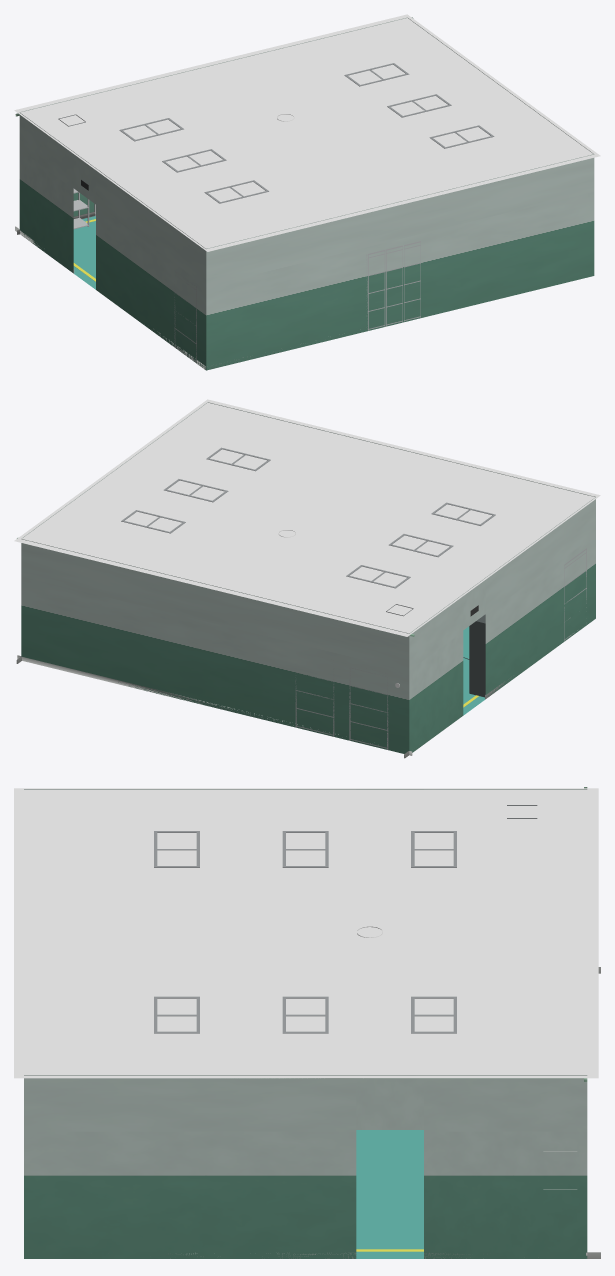
Rendered from sala1.fbx.
3 views of the same model, one above another, from view 1: azimuth 30°, elevation 25°; view 2: azimuth 150°, elevation 25°; view 3: azimuth 270°, elevation 25° (orthographic). The views are drawn at different scales.
Parts seen in each view (by area): view 1: Plane, Pared_Sur, Pared_Oeste_A, Pared_Oeste_B, Piso, Estante_Metal_06, Pared_Oeste_Dintel, Pared_Norte; view 2: Plane, Pared_Norte, Pared_Oeste_A, Pared_Oeste_B, Rack_Oeste, Zocalo_Norte, Pared_Oeste_Dintel, Piso; view 3: Plane, Pared_Este_A, Pared_Este_B, Piso, Pared_Este_Dintel, Luminaria_Marco_4, Luminaria_Marco_3, Luminaria_Marco_5.
Boxes of the visible parts, x1,y1,x2,y2 form: Plane: (14, 14, 600, 251); Pared_Sur: (206, 154, 594, 370); Pared_Oeste_A: (96, 168, 206, 370); Pared_Oeste_B: (19, 113, 73, 273); Piso: (73, 216, 95, 289); Estante_Metal_06: (366, 241, 420, 330); Pared_Oeste_Dintel: (73, 152, 95, 204); Pared_Norte: (20, 17, 407, 216); Plane: (14, 399, 600, 636); Pared_Norte: (21, 539, 409, 753); Pared_Oeste_A: (485, 497, 595, 696); Pared_Oeste_B: (409, 594, 463, 752); Rack_Oeste: (469, 614, 485, 697); Zocalo_Norte: (17, 655, 412, 755); Pared_Oeste_Dintel: (463, 578, 485, 629); Piso: (463, 626, 485, 715); Plane: (14, 788, 598, 1078); Pared_Este_A: (24, 1075, 356, 1258); Pared_Este_B: (424, 1075, 587, 1258); Piso: (356, 1130, 423, 1258); Pared_Este_Dintel: (356, 1075, 423, 1129); Luminaria_Marco_4: (282, 996, 328, 1033); Luminaria_Marco_3: (154, 996, 199, 1033); Luminaria_Marco_5: (411, 996, 456, 1033).
Bounding box in the file's own units: 1023 × 301 × 868.
48 materials, 4 textured.
